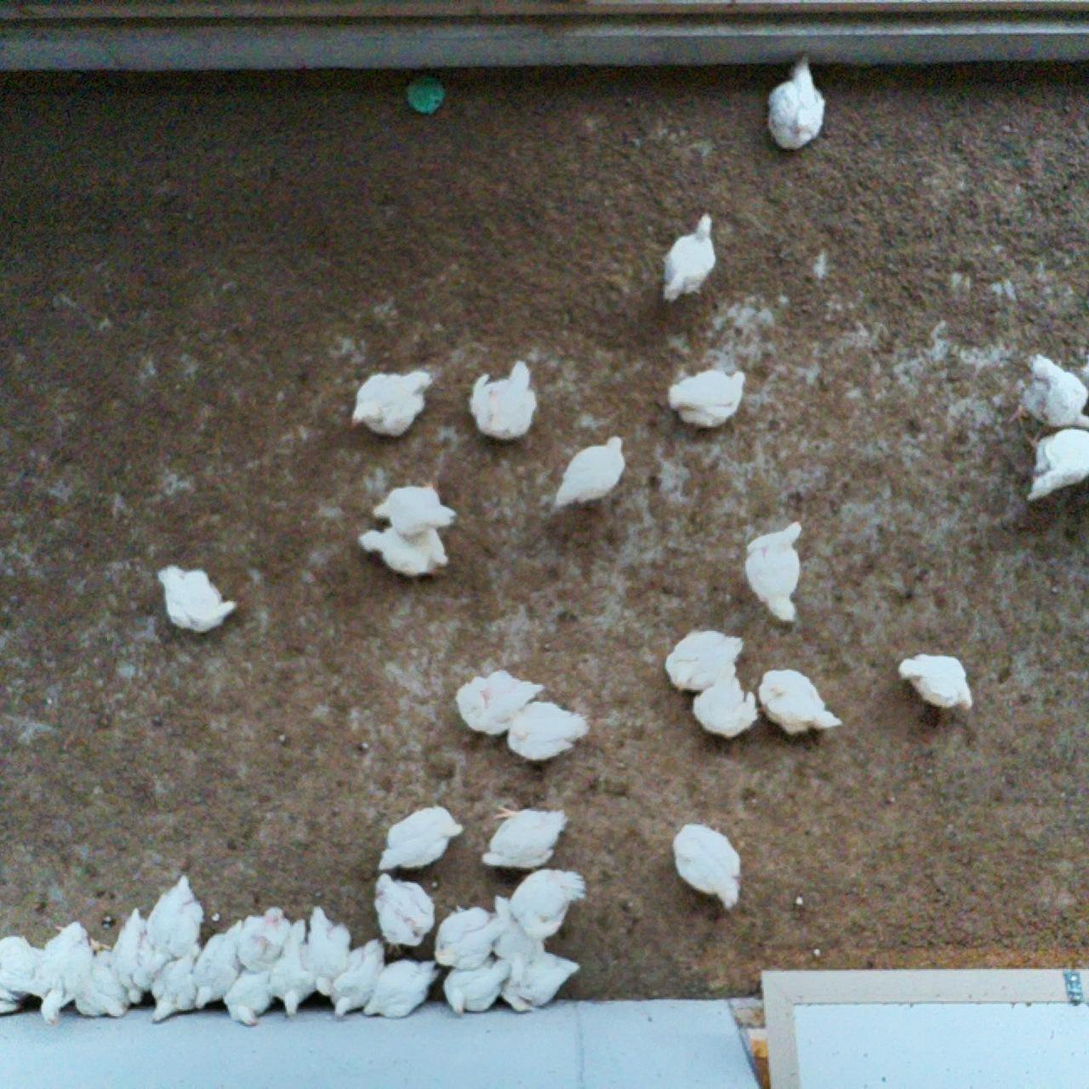chicken: (29, 920, 108, 1019), (142, 875, 210, 983), (54, 927, 131, 1018), (1006, 354, 1089, 430), (673, 822, 744, 910), (744, 521, 804, 620), (758, 669, 844, 738), (481, 807, 571, 872), (376, 806, 464, 872), (454, 670, 546, 733), (156, 561, 235, 634), (766, 55, 827, 149), (464, 362, 540, 437), (350, 371, 432, 439), (554, 436, 627, 510), (1019, 428, 1089, 505), (192, 918, 250, 1010), (664, 368, 748, 430), (664, 628, 744, 693), (359, 519, 450, 576), (515, 867, 587, 938), (659, 212, 716, 301), (510, 704, 592, 765), (149, 940, 208, 1021), (271, 921, 319, 1019), (363, 960, 443, 1018), (329, 940, 386, 1021), (112, 910, 159, 1008), (373, 872, 434, 947), (500, 956, 580, 1012), (899, 654, 974, 712), (435, 908, 506, 967), (370, 483, 457, 531), (308, 905, 352, 996), (690, 684, 760, 741), (442, 956, 507, 1016), (489, 896, 546, 961), (242, 909, 296, 971), (0, 932, 42, 1010), (223, 969, 276, 1025)
